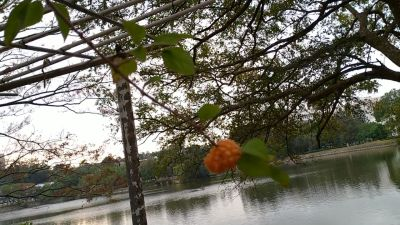eggs: (204, 138, 242, 175)
